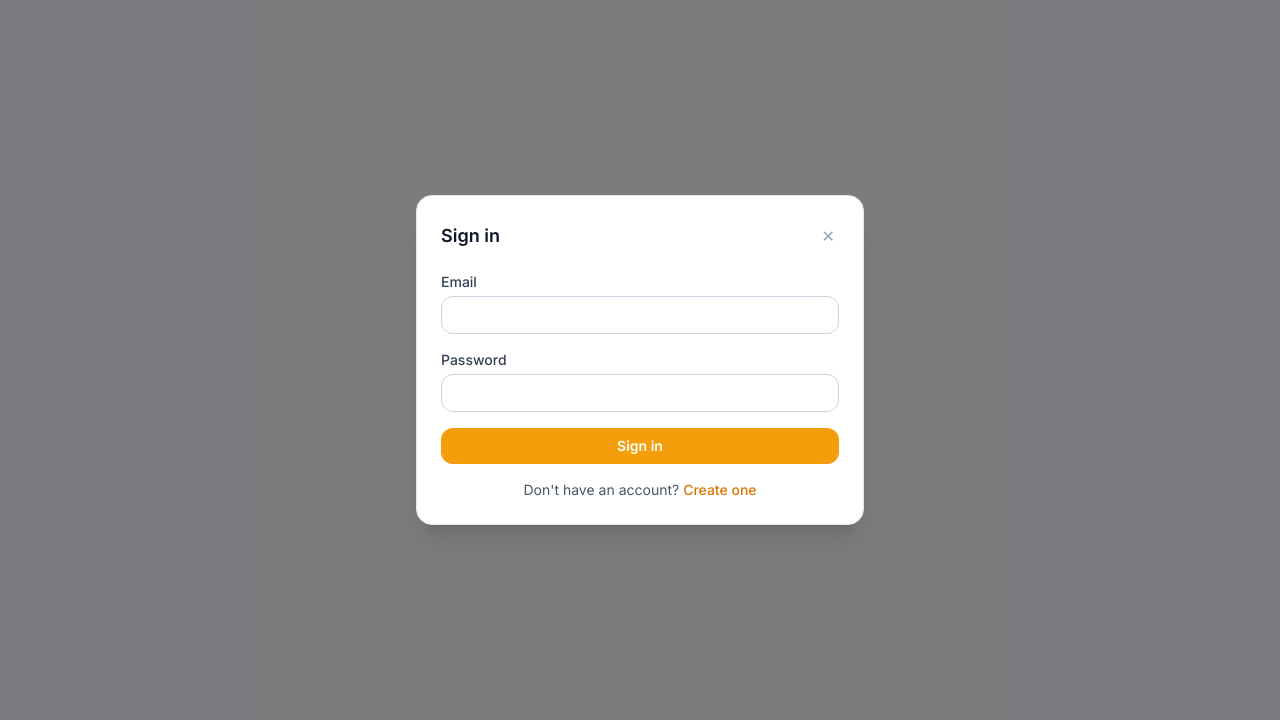
Test: AuthModal › switches to sign-up mode when 'Create one' is clicked
Click the button "Create one": (720, 490) x1=683 y1=480 x2=756 y2=500
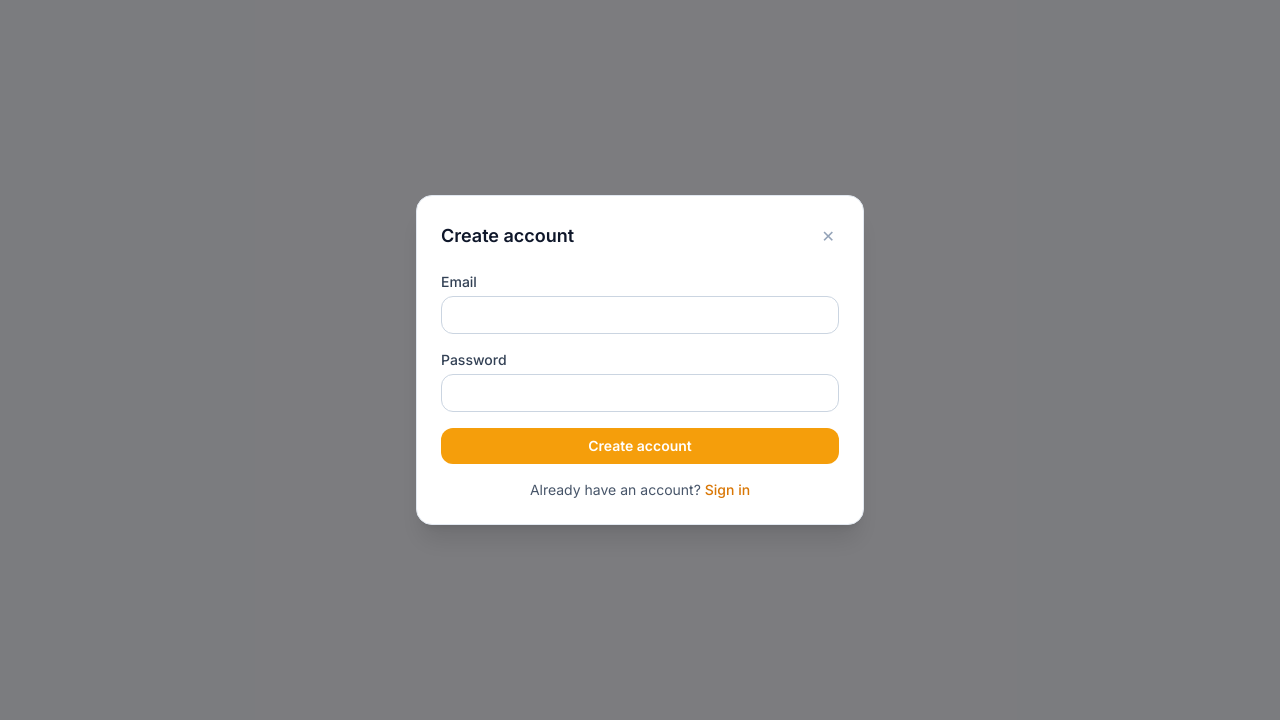
Expected: the heading "Create account" is shown, x1=441 y1=222 x2=574 y2=250
